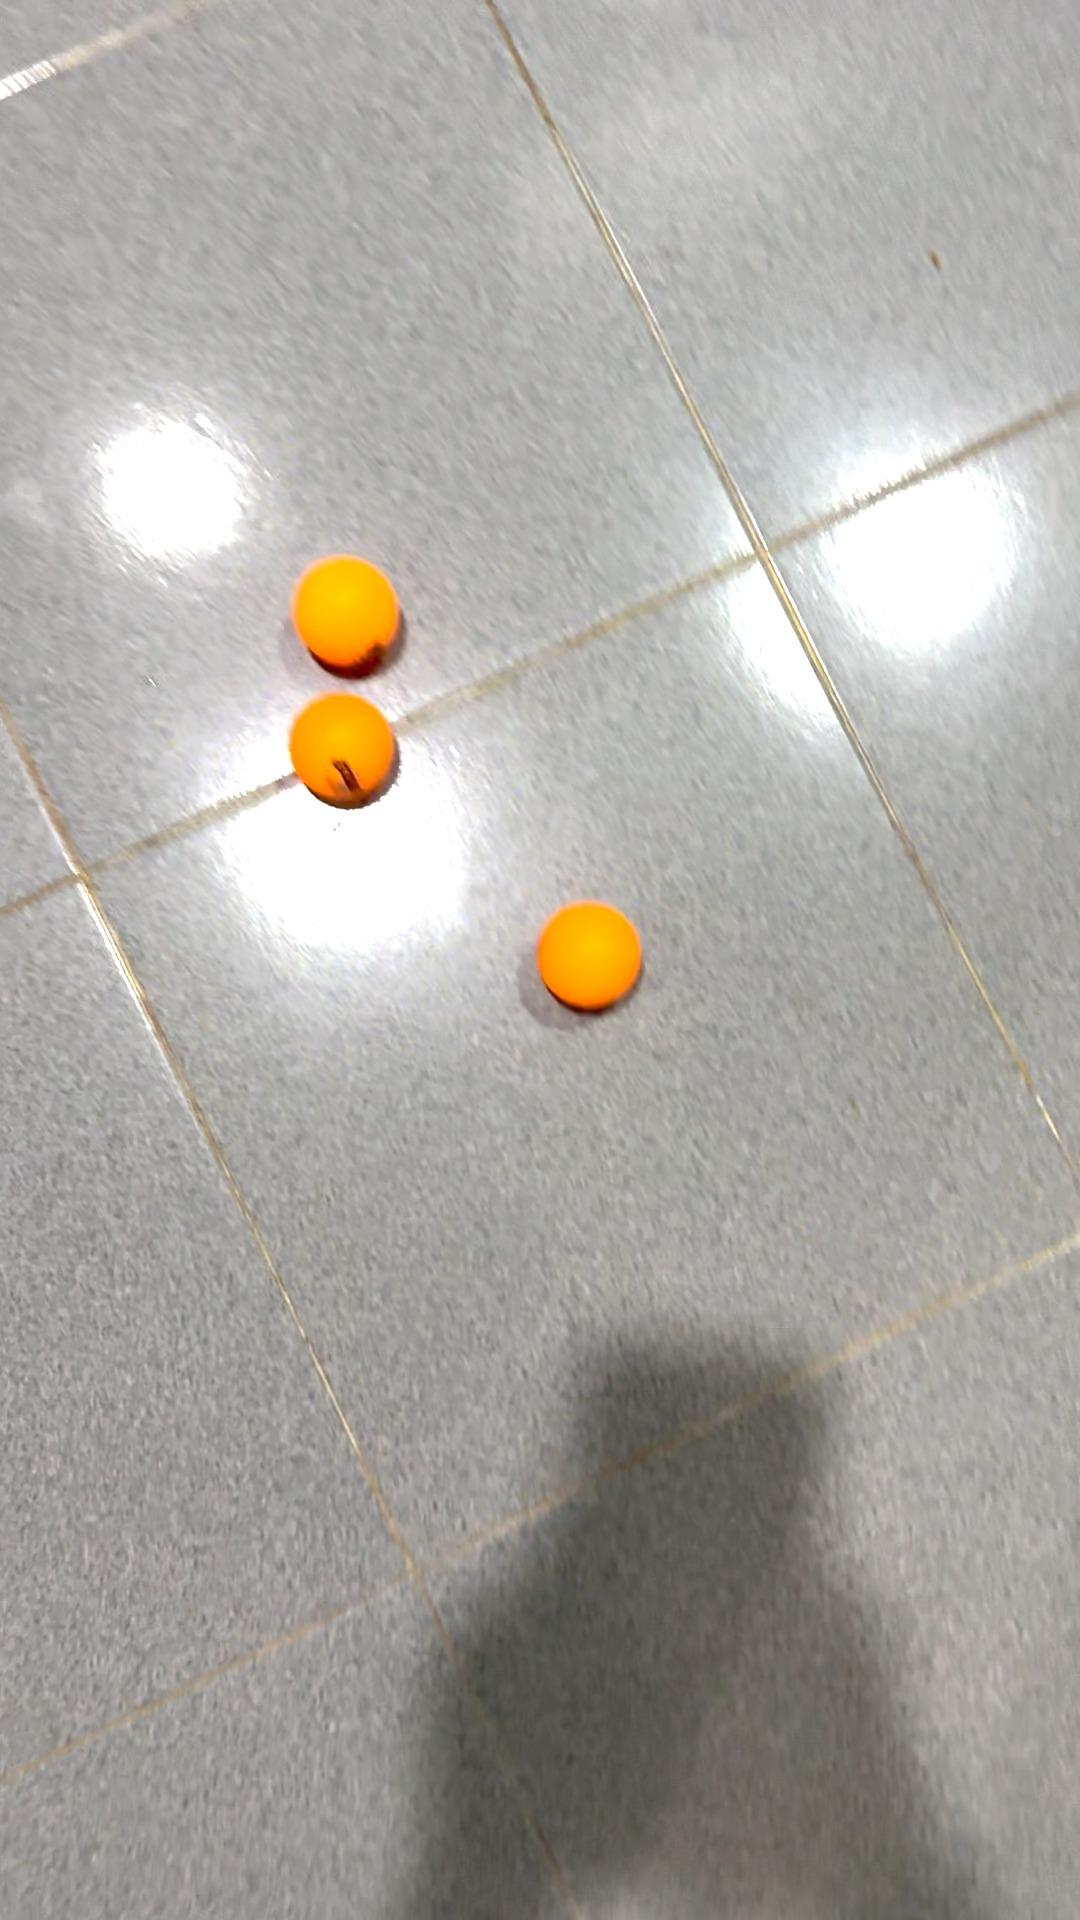oball: (527, 885, 655, 1039), (287, 671, 415, 819), (281, 547, 422, 673)
